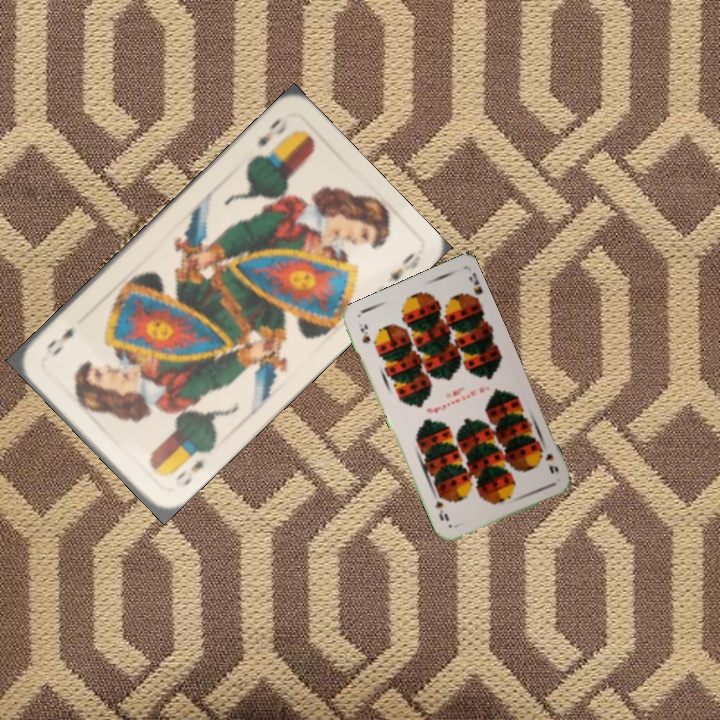EO: (253, 113, 291, 150), (171, 454, 207, 489)
S9: (534, 442, 561, 476), (356, 321, 373, 346)
